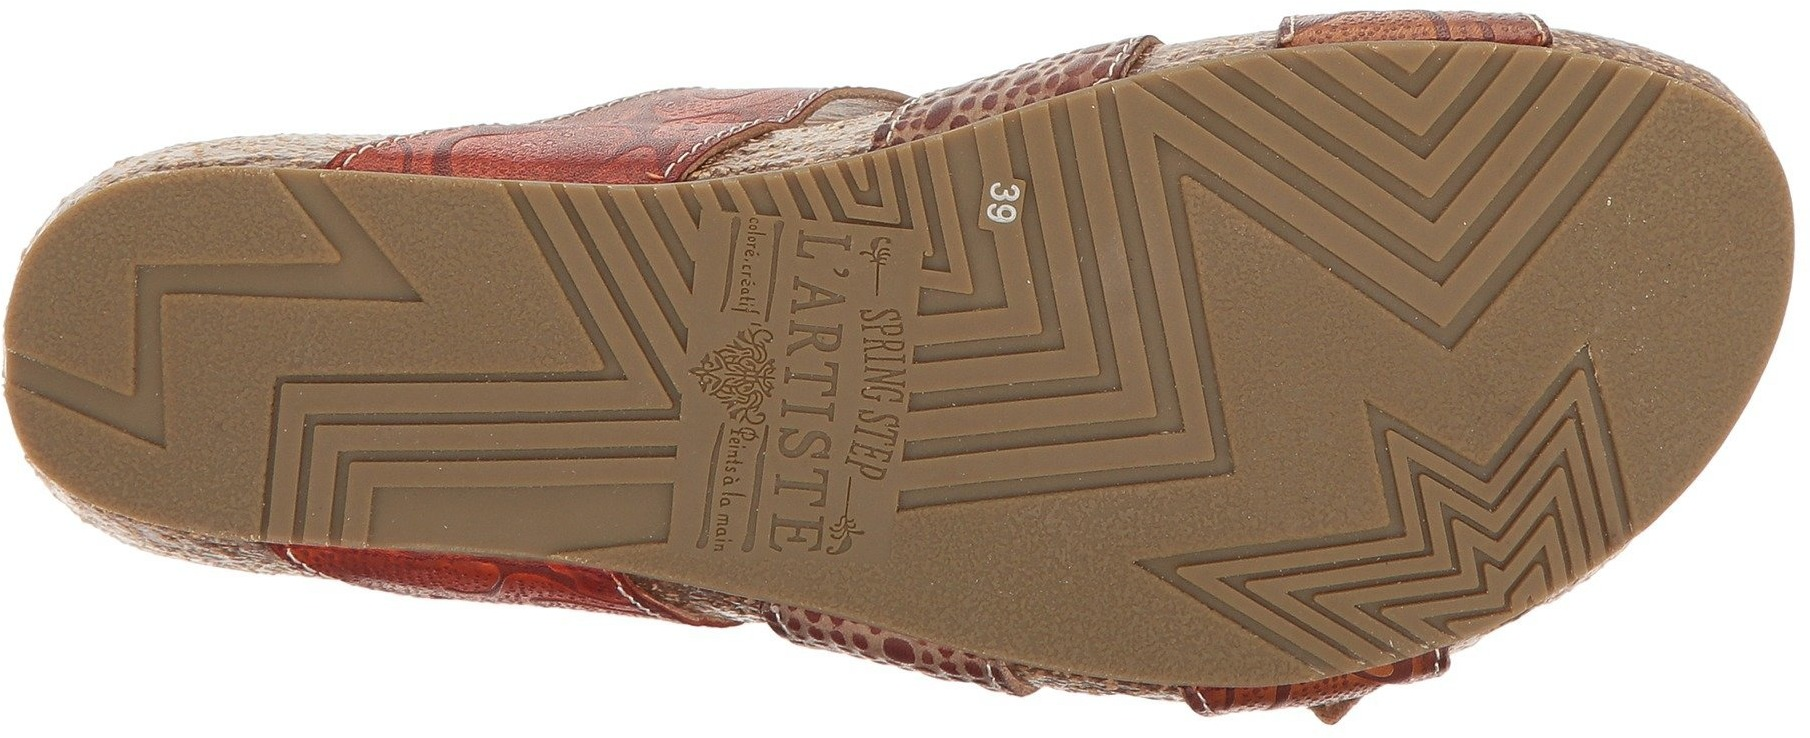chevron: (1143, 316, 1705, 708), (75, 178, 424, 524)
circle: (678, 203, 922, 571)
other: (678, 203, 922, 571)
quad: (670, 209, 927, 572)
star: (1143, 316, 1705, 708)
text: (678, 203, 922, 571), (839, 297, 915, 484), (970, 162, 1040, 244)
